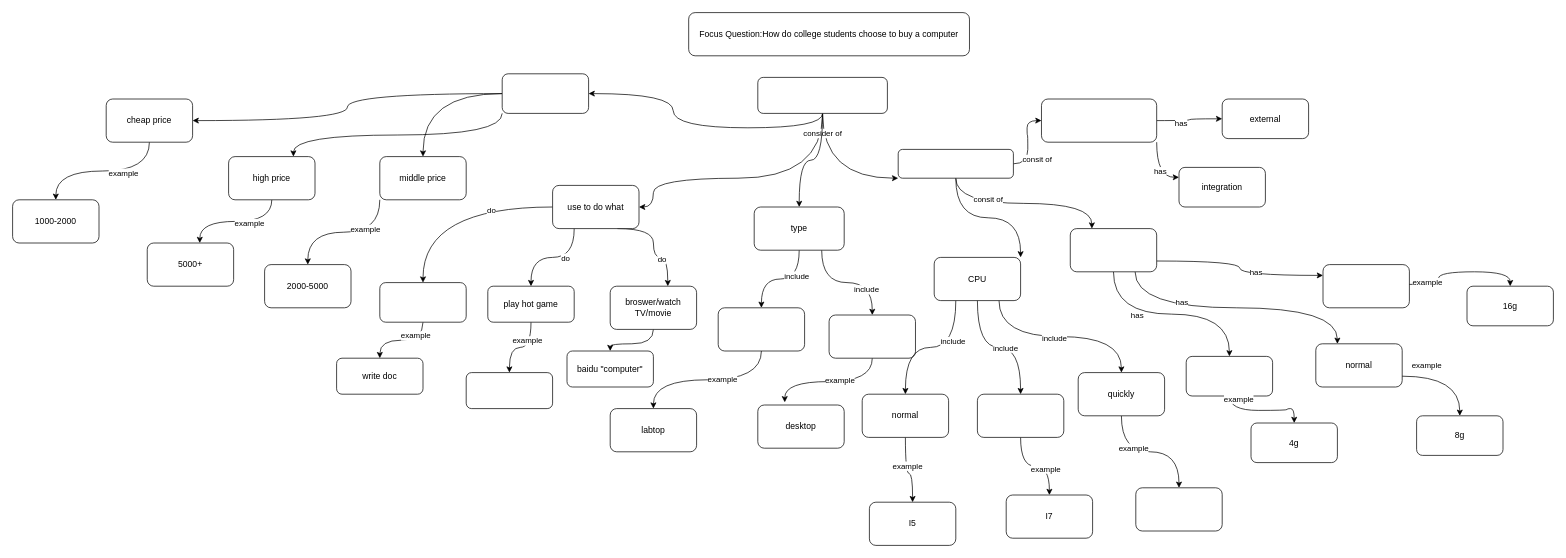
This 1566x558 diagram has some shape labels left out. The box of each missing label's shape, as (x1, y1, x2, y2) in pixels:
bigger: (1322, 264, 1409, 308)
Choose to buy a computer: (757, 77, 887, 113)
graphic card: (1041, 98, 1157, 142)
hardware requirement: (897, 149, 1013, 178)
I9: (1135, 487, 1222, 531)
memory bank: (1070, 228, 1157, 272)
middle: (977, 393, 1064, 437)
not portable: (828, 314, 915, 358)
office: (379, 282, 466, 322)
Playerunknown's Battlegrounds: (465, 372, 553, 409)
portable: (717, 307, 805, 351)
small: (1185, 356, 1273, 396)
your budge: (501, 73, 589, 113)
